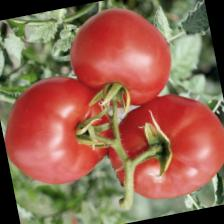tomato: (98, 83, 224, 208), (0, 66, 120, 193), (60, 0, 179, 117)
